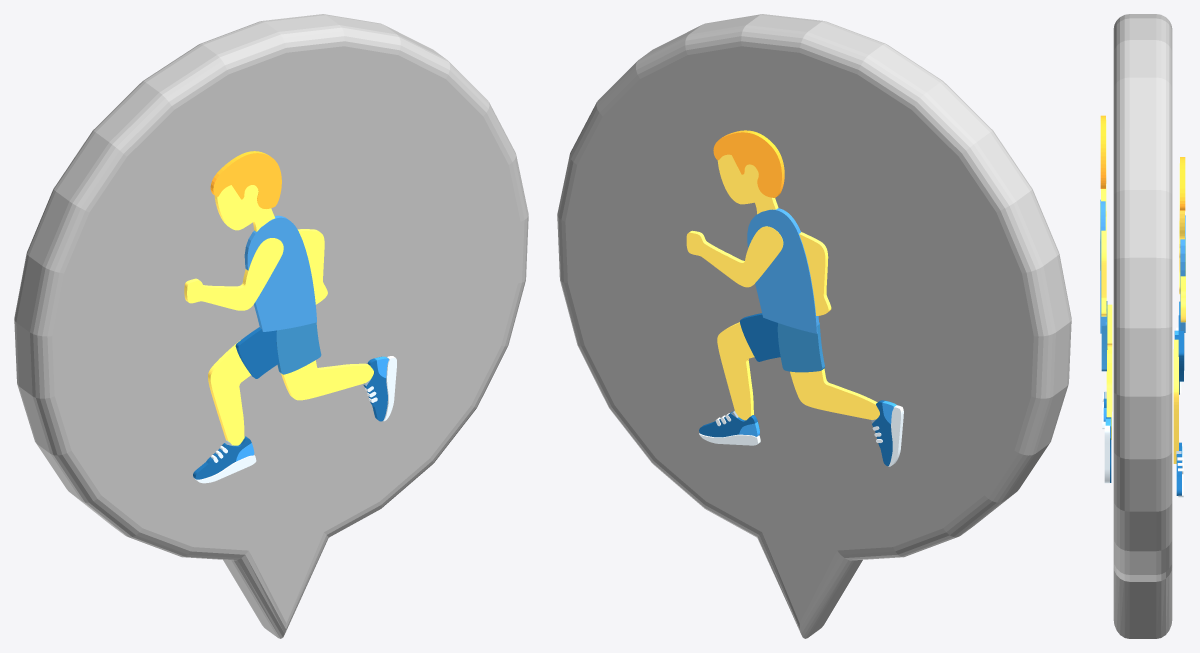
Rendered from man_running.glb.
3 renders of one model, left to right at view 1: azimuth 30°, elevation 25°; view 2: azimuth 150°, elevation 25°; view 3: azimuth 270°, elevation 25°, orthographic.
Visible parts, largest first — view 1: EmotionBubble; view 2: EmotionBubble; view 3: EmotionBubble.
Boxes of the visible parts, x1,y1,x2,y2 form: EmotionBubble: [14, 14, 528, 638]; EmotionBubble: [557, 14, 1071, 638]; EmotionBubble: [1100, 14, 1185, 638].
Bounding box in the file's own units: 5.29 × 6.16 × 0.802.
